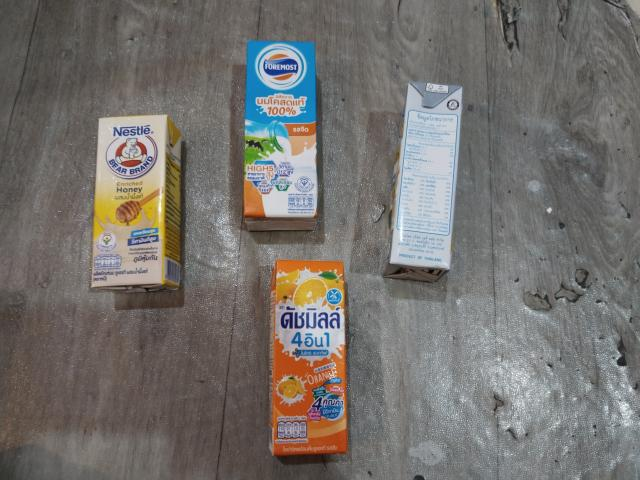drink_box: (92, 113, 188, 302), (268, 254, 351, 458), (242, 36, 324, 228), (392, 80, 464, 286)
